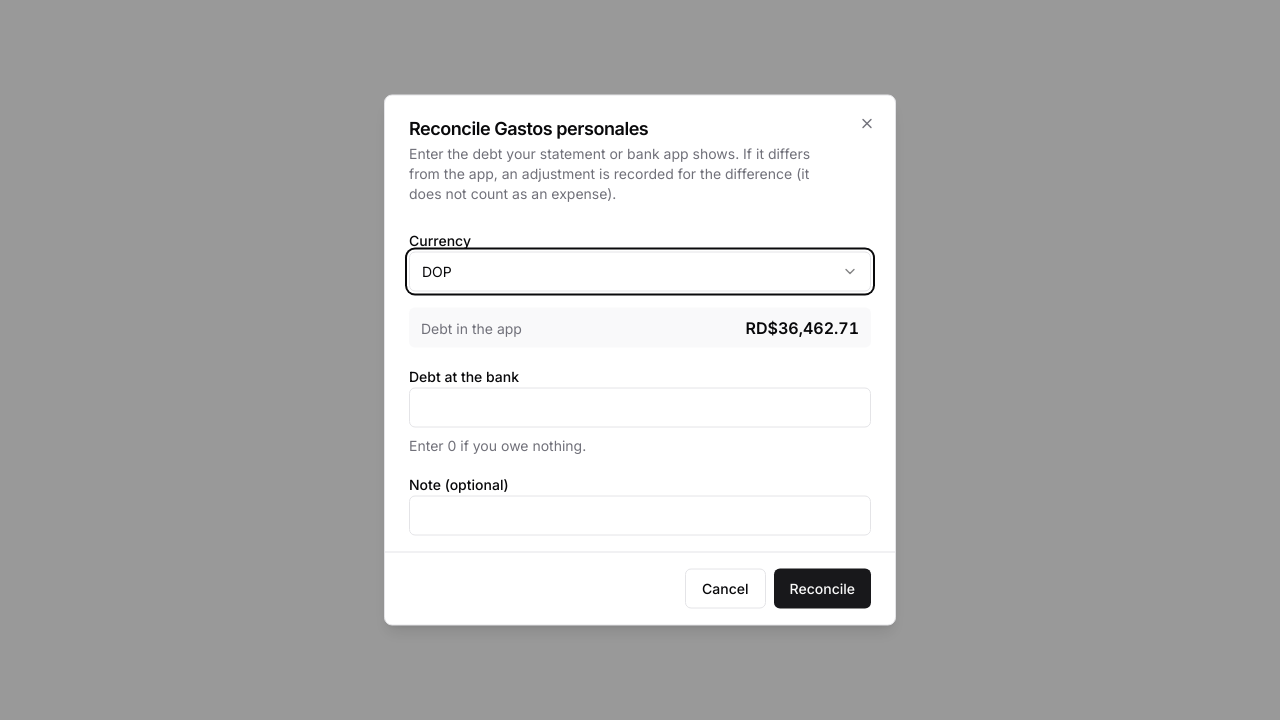
Test: ReconcileCardModal › requires the debt
Click the button "Reconcile" at (822, 588), box left=774, top=568, right=871, bottom=608
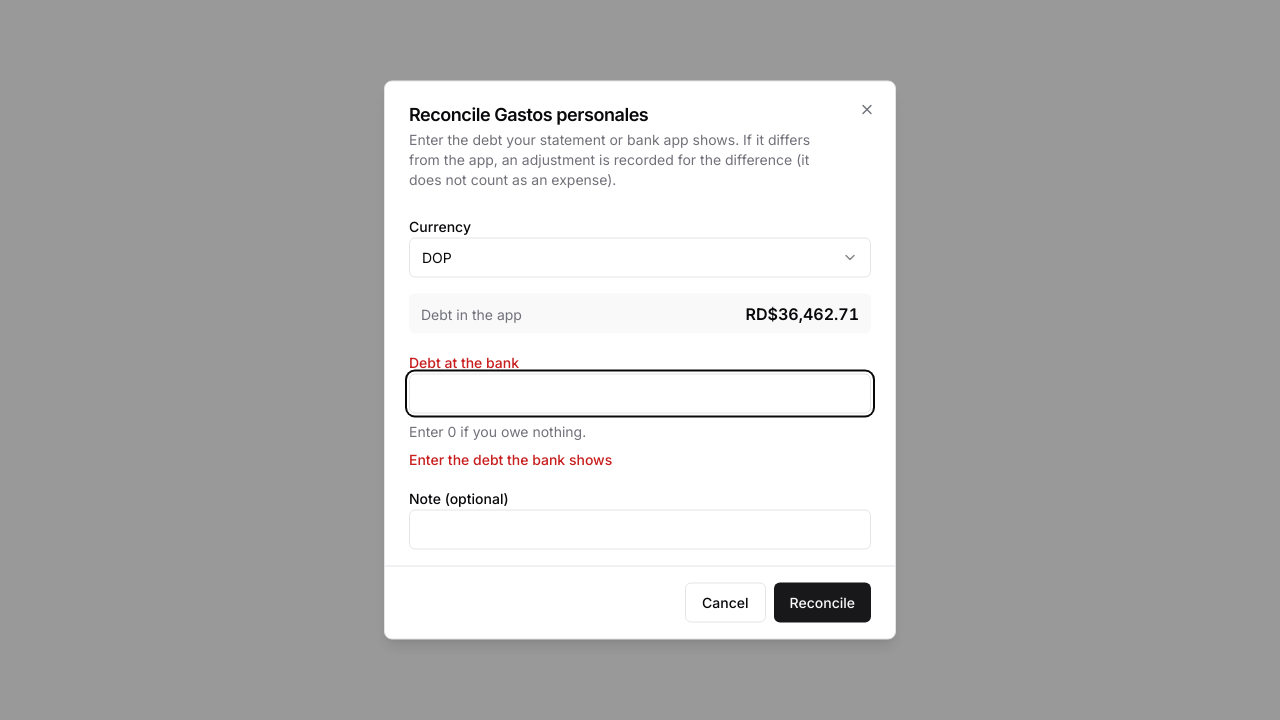
Expected: the text "Enter the debt the bank shows" is shown, left=409, top=450, right=612, bottom=468
